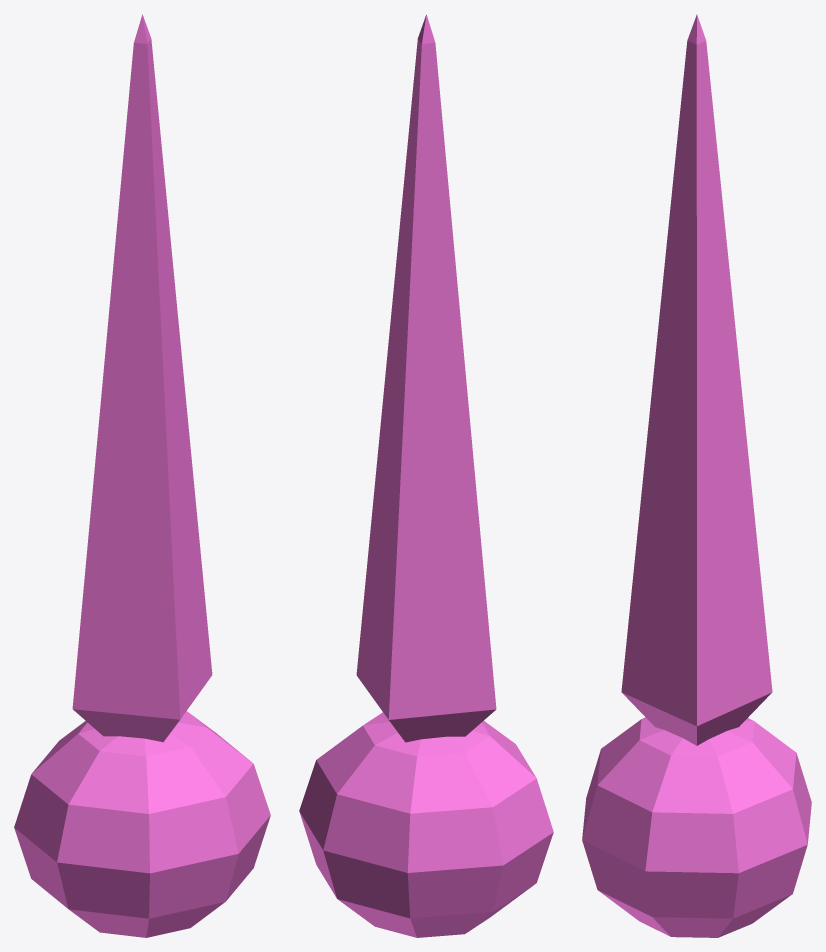
The model's file is SM_Roof_Finial_Bulb_A_Fantasy.fbx.
3 renders of one model, left to right at view 1: azimuth 30°, elevation 25°; view 2: azimuth 150°, elevation 25°; view 3: azimuth 270°, elevation 25°, orthographic.
Visible parts, largest first — view 1: SM_Roof_Finial_Bulb_A_Fantasy; view 2: SM_Roof_Finial_Bulb_A_Fantasy; view 3: SM_Roof_Finial_Bulb_A_Fantasy.
Part boxes in pixels (bbox=[...]): SM_Roof_Finial_Bulb_A_Fantasy: bbox=[14, 14, 270, 937]; SM_Roof_Finial_Bulb_A_Fantasy: bbox=[299, 14, 553, 937]; SM_Roof_Finial_Bulb_A_Fantasy: bbox=[582, 14, 811, 937].
Bounding box in the file's own units: 0.3231 × 1.32 × 0.3022.
